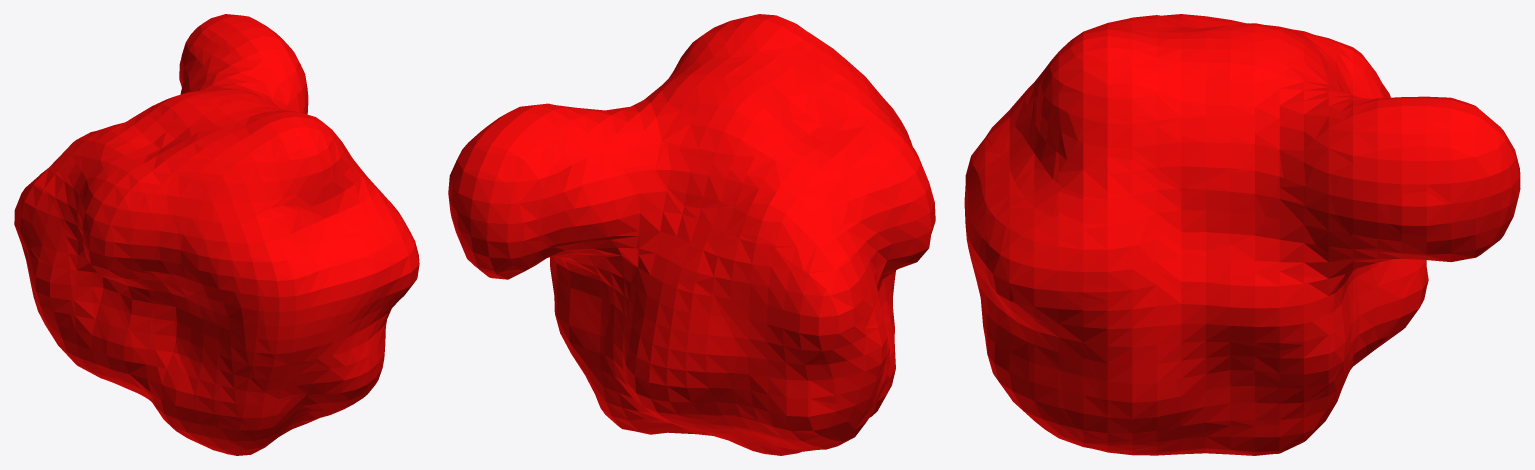
The model's file is bcp_coarse.dae.
3 views of the same model, side by side, from view 1: azimuth 30°, elevation 25°; view 2: azimuth 150°, elevation 25°; view 3: azimuth 270°, elevation 25° (orthographic). The views are drawn at different scales.
Parts seen in each view (by area): view 1: bcp; view 2: bcp; view 3: bcp.
Boxes of the visible parts, <box> form: bcp: <box>14,14,419,455</box>; bcp: <box>448,14,935,455</box>; bcp: <box>964,14,1520,455</box>.
Size of the model in its own units: 38.7 by 39.86 by 47.55.
